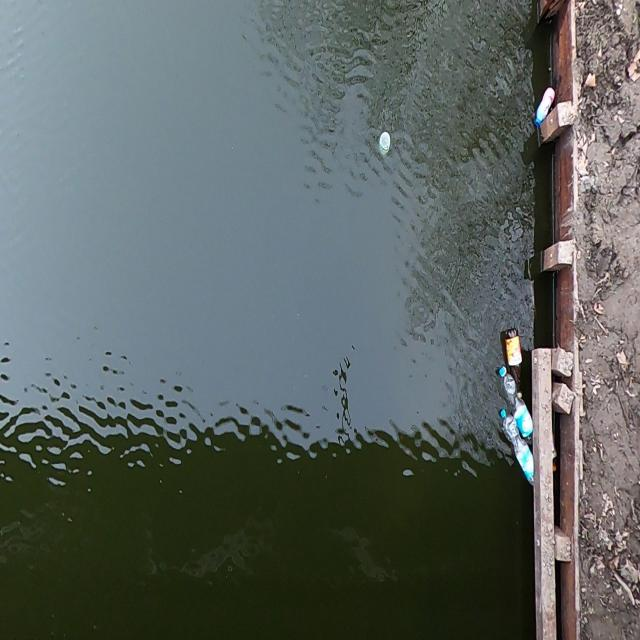Bouteille plastique: (491, 354, 533, 456), (494, 396, 534, 502), (494, 319, 528, 408), (529, 79, 556, 135)
